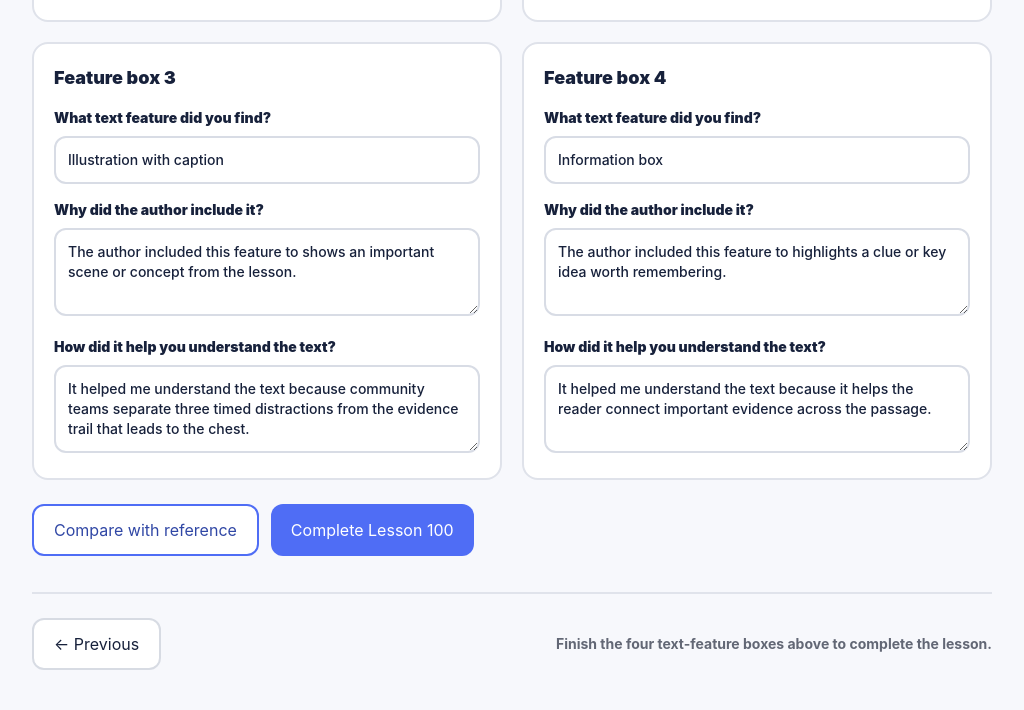
Test case: Story Adventures progress and lesson flow › allows lesson 100 to reach the real completion summary
(page scrolled)
Click the button "Complete Lesson 100" at (372, 530), box [271, 504, 474, 556]
(page scrolled)
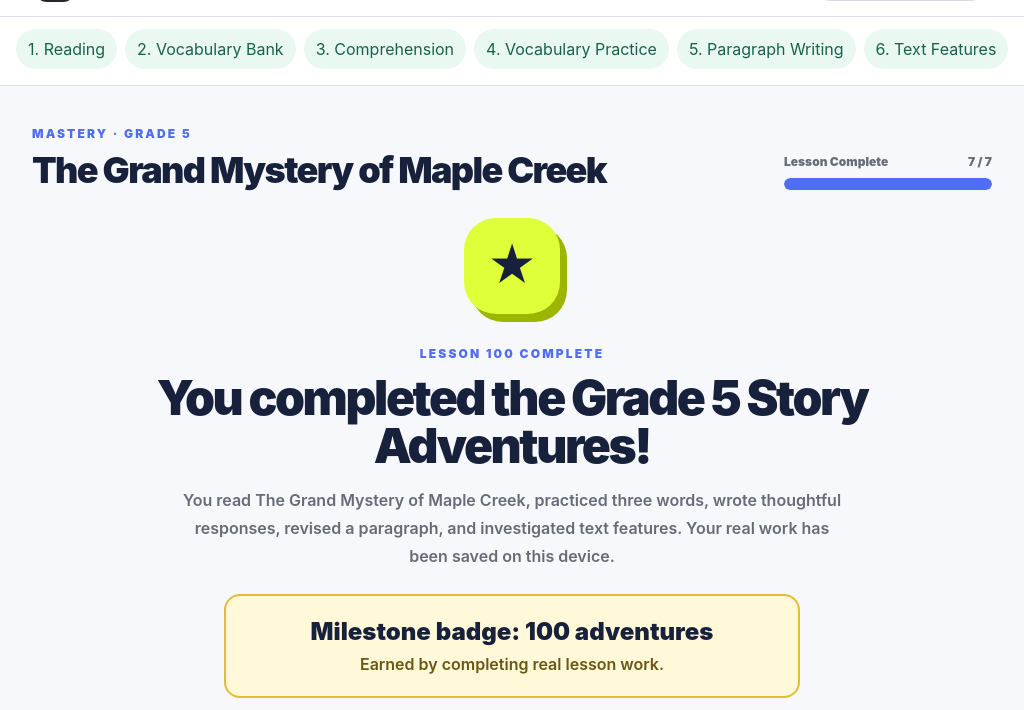
expect the heading "You completed the Grade 5 Story Adventures!" is shown: met, box [128, 374, 896, 470]
